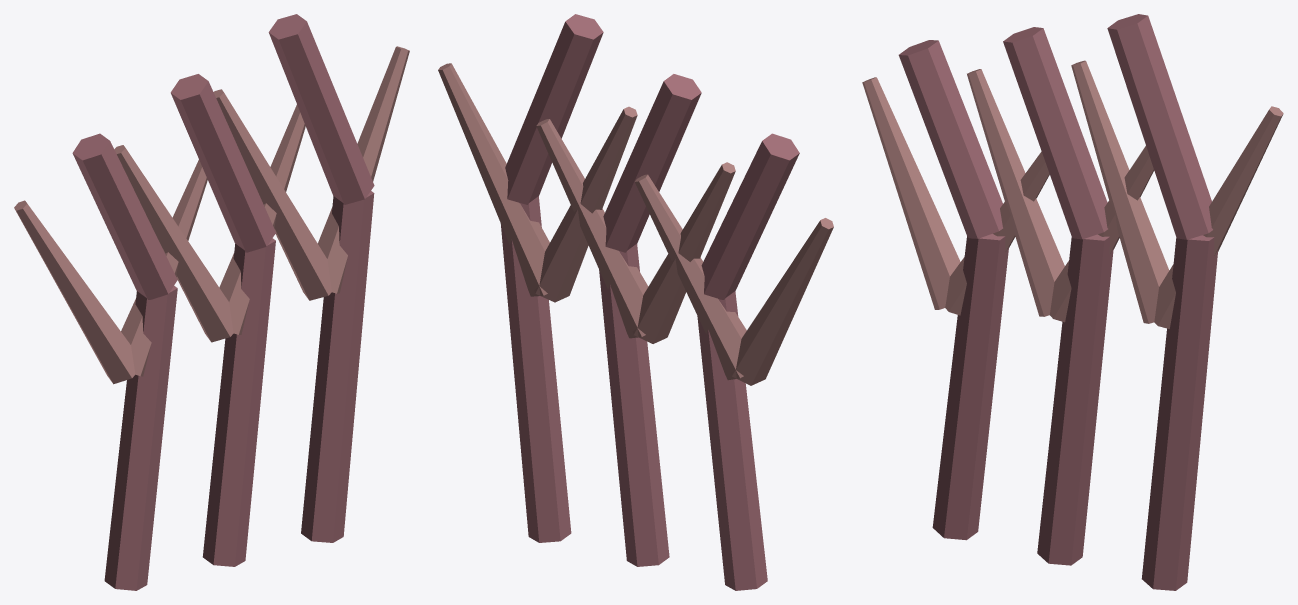
File: map-boundaries-v5__tide_09.glb
3 renders of one model, left to right at view 1: azimuth 30°, elevation 25°; view 2: azimuth 150°, elevation 25°; view 3: azimuth 330°, elevation 25°, orthographic. The views are drawn at different scales.
Parts seen in each view (by area): view 1: tide_09; view 2: tide_09; view 3: tide_09.
Part boxes in pixels (x1,y1,x2,y2): tide_09: [14, 14, 409, 590]; tide_09: [438, 14, 833, 590]; tide_09: [862, 14, 1283, 590].
Size of the model in its own units: 1.48 by 1.89 by 0.1744.
